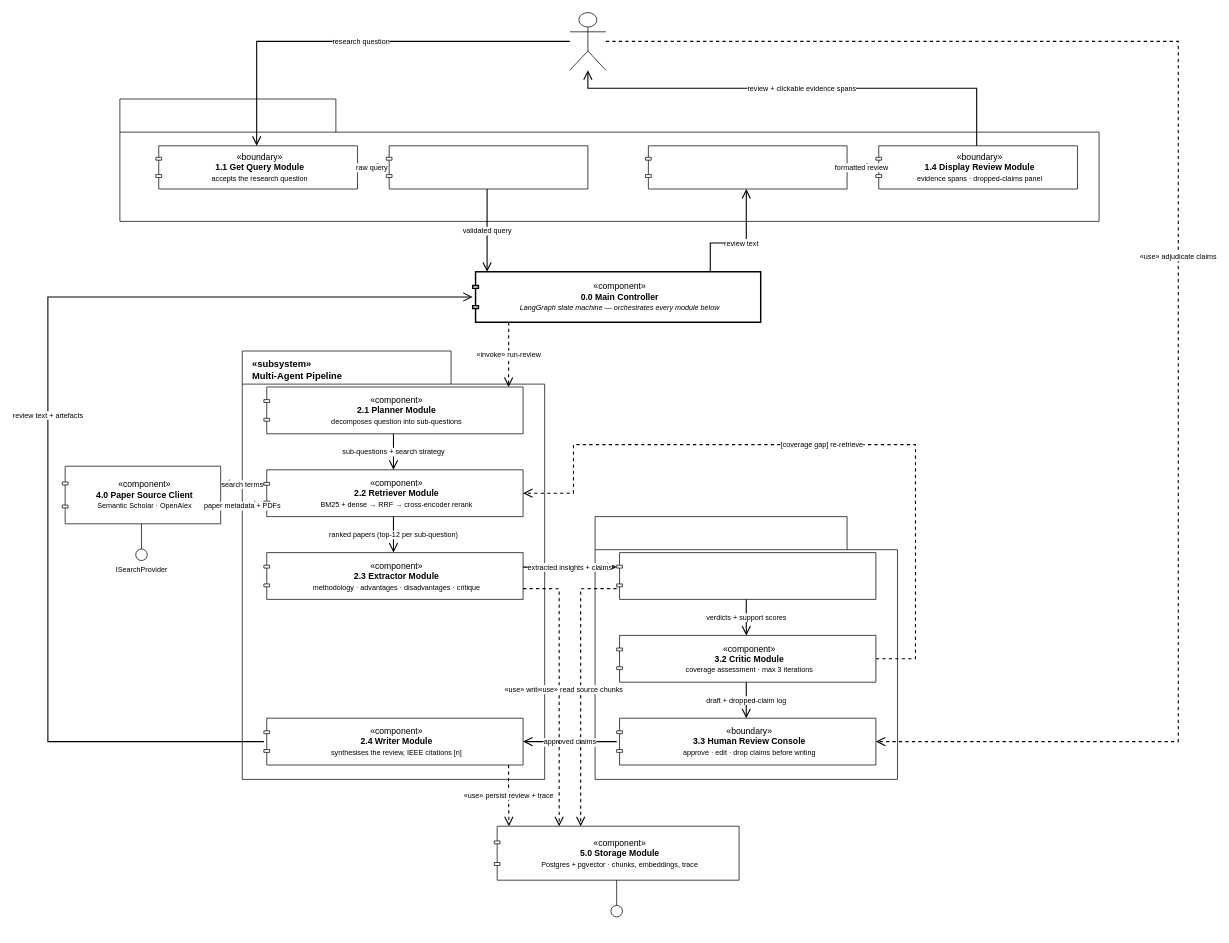
This 1229x943 diagram has some shape labels left out. Here are the shapes that lost their labels. From the top down, the box of each, then its label:
(569, 12, 606, 70): Researcher
(386, 145, 588, 189): «component» 1.2 Validate Query Module length · language · scope checks
(119, 98, 1099, 221): «subsystem» Presentation Subsystem
(645, 145, 847, 189): «component» 1.3 Format Review Module review.md · insights.csv · refs.bib
(616, 552, 876, 599): «component» 3.1 Verifier Module fine-tuned NLI · ONNX int8 · CPU
(594, 516, 897, 779): «subsystem» Grounding and Quality Control
(610, 905, 622, 917): IPersistence
